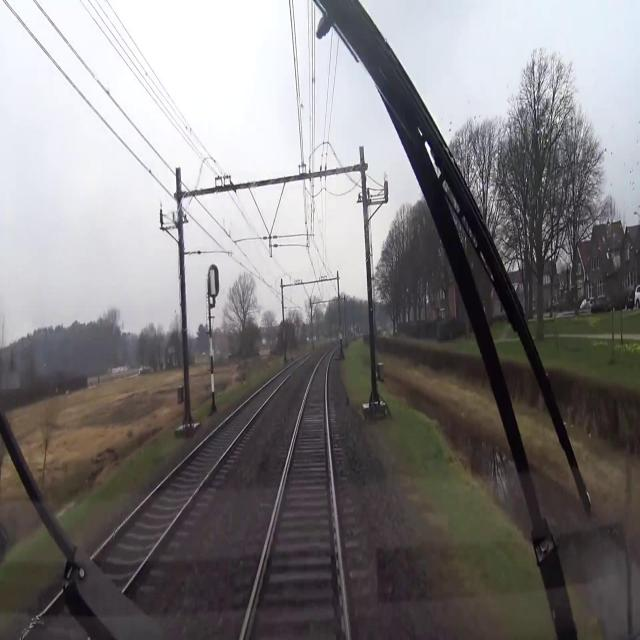rail-track: (96, 365, 295, 585), (244, 351, 345, 639)
